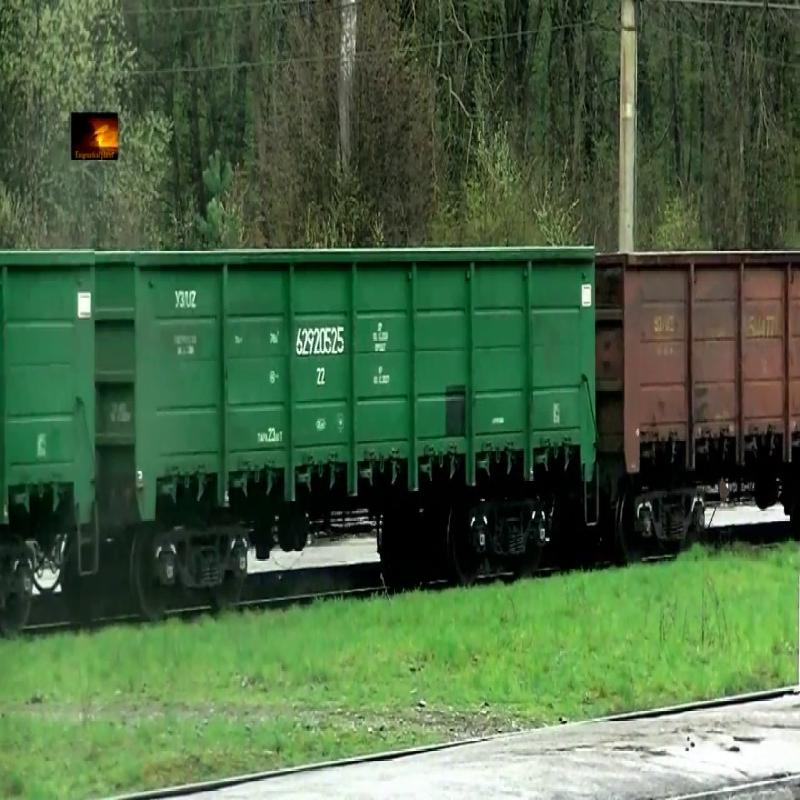train: (97, 249, 597, 526), (598, 252, 800, 474), (1, 250, 96, 523)
